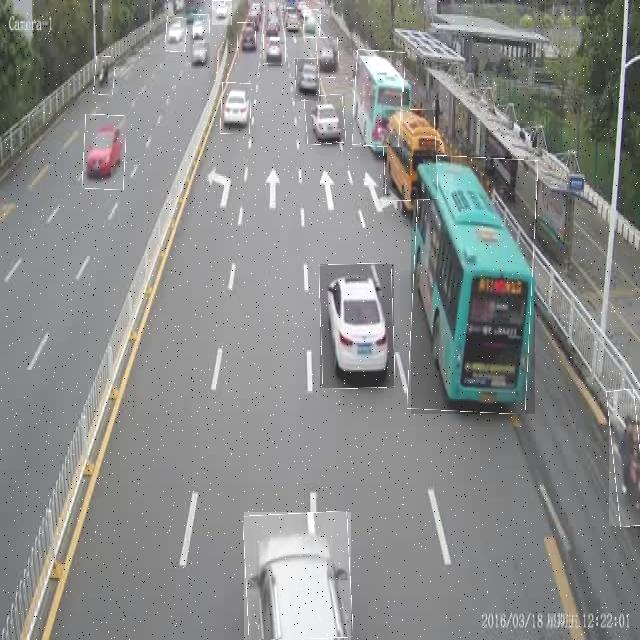Bus: (411, 156, 535, 414), (383, 110, 437, 200), (354, 50, 404, 147)
Car: (244, 512, 351, 640), (320, 264, 394, 388), (83, 114, 126, 190), (305, 95, 345, 144), (220, 83, 251, 134), (295, 59, 321, 101), (316, 38, 338, 78), (264, 31, 286, 66), (190, 33, 210, 69), (166, 18, 186, 52), (238, 22, 256, 57), (286, 10, 304, 38), (303, 10, 321, 38), (212, 0, 232, 25), (194, 14, 210, 43)
Motorcycle: (609, 389, 640, 526), (94, 57, 115, 95)
